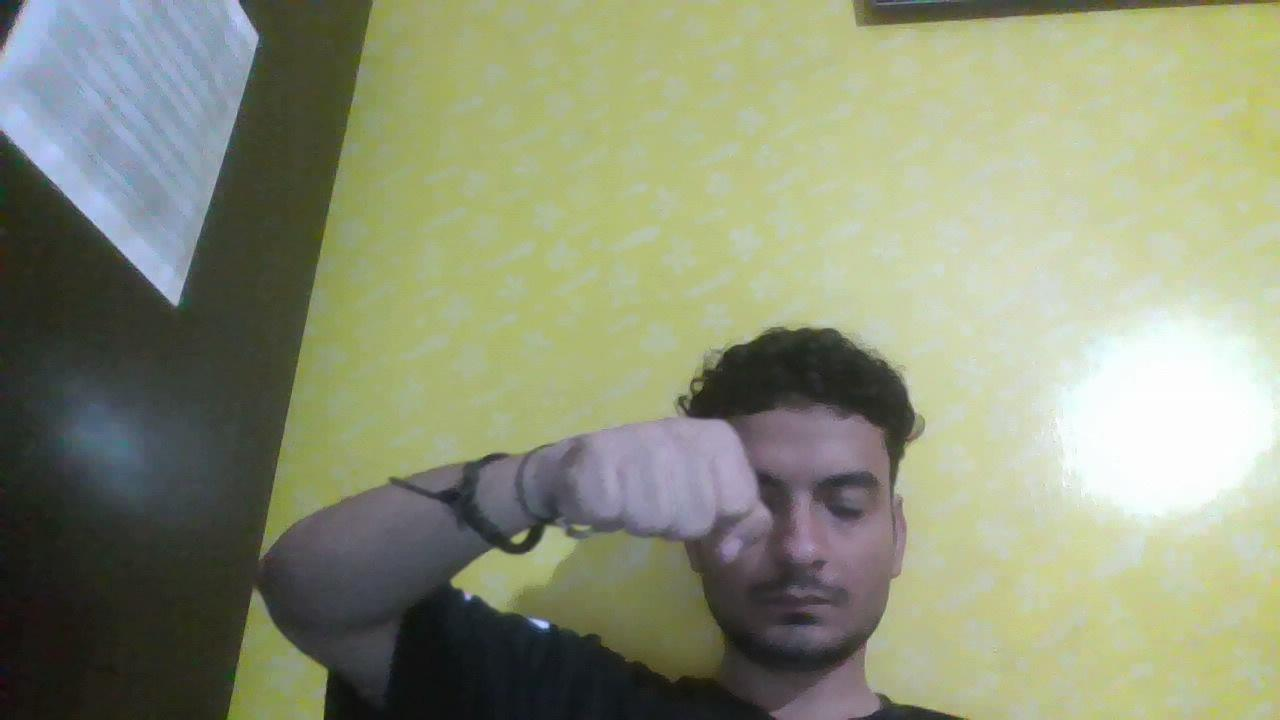Yes: (531, 382, 800, 582)
